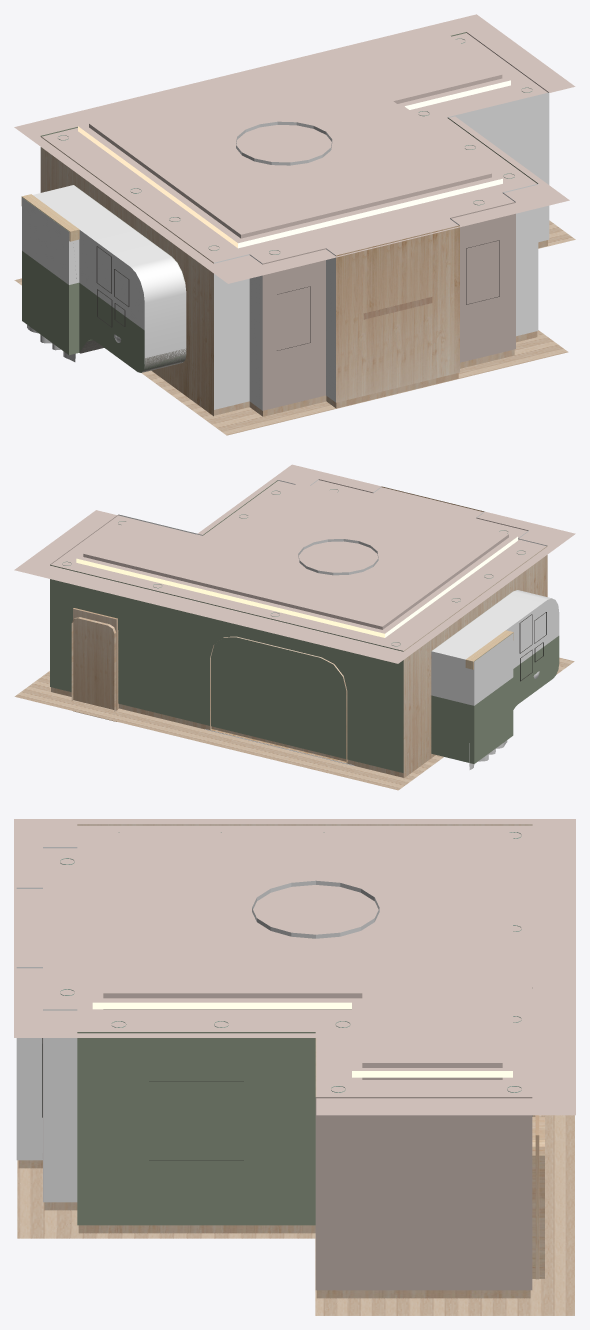
The model's file is patient_room.fbx.
3 renders of one model, top to bottom at view 1: azimuth 30°, elevation 25°; view 2: azimuth 150°, elevation 25°; view 3: azimuth 270°, elevation 25°, orthographic. The views are drawn at different scales.
Parts seen in each view (by area): view 1: sealing, wall2, wall1, floor, main; view 2: sealing, wall2, wall1, floor, wall3, main; view 3: sealing, wall2, floor, main, wall1, wall3.
Boxes of the visible parts, box(x1,y1,x2,y2) form: sealing: box(14, 14, 575, 283); wall2: box(41, 32, 549, 416); wall1: box(21, 136, 213, 416); floor: box(14, 220, 575, 435); main: box(236, 121, 332, 165); sealing: box(14, 464, 575, 663); wall2: box(50, 479, 547, 778); wall1: box(403, 546, 559, 777); floor: box(14, 657, 574, 790); wall3: box(73, 608, 347, 763); main: box(298, 539, 378, 575); sealing: box(14, 819, 575, 1115); wall2: box(16, 847, 544, 1298); floor: box(17, 1038, 574, 1315); main: box(252, 880, 379, 938); wall1: box(77, 824, 532, 825); wall3: box(532, 1115, 539, 1279).
Size of the model in its own units: 1121 by 387 by 824.
